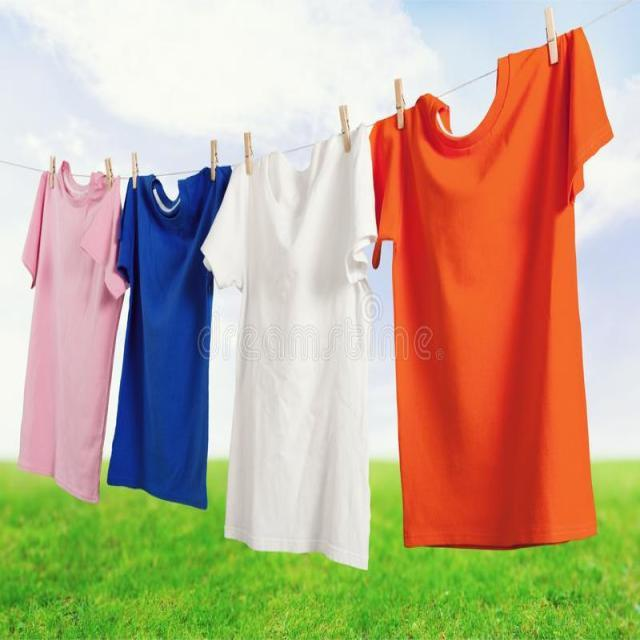clothes: (380, 16, 600, 581), (230, 112, 372, 562), (107, 147, 236, 504), (22, 168, 132, 511)
